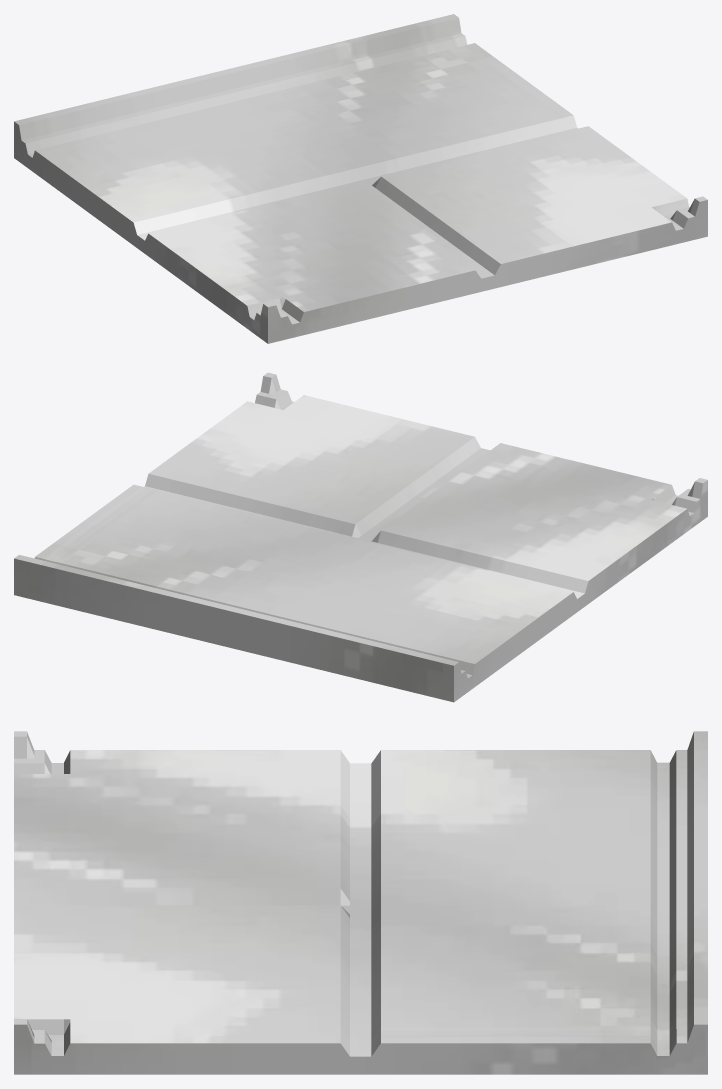
The model's file is TurnFloor.fbx.
3 renders of one model, top to bottom at view 1: azimuth 30°, elevation 25°; view 2: azimuth 150°, elevation 25°; view 3: azimuth 270°, elevation 25°, orthographic. The views are drawn at different scales.
Parts seen in each view (by area): view 1: pCube179; view 2: pCube179; view 3: pCube179.
Part boxes in pixels (x1=…): pCube179: x1=14, y1=14, x2=707, y2=343; pCube179: x1=14, y1=372, x2=707, y2=702; pCube179: x1=14, y1=731, x2=707, y2=1074.
Size of the model in its own units: 500 by 39.94 by 500.
Materials: 1 (1 with a texture image).
